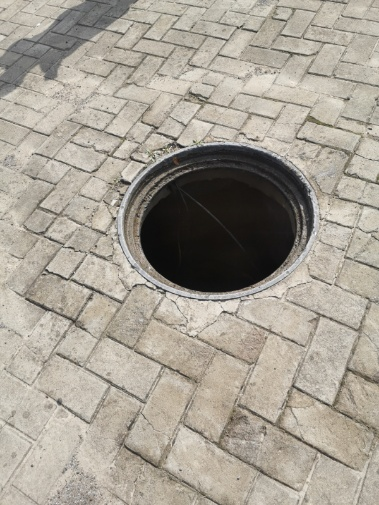well: (117, 141, 319, 300)
